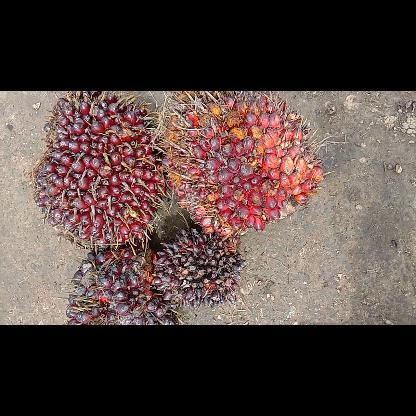Kurang masak: (29, 90, 167, 248), (64, 244, 178, 324)
TBS abnormal: (152, 225, 249, 309)
TBS masak: (163, 90, 325, 240)
